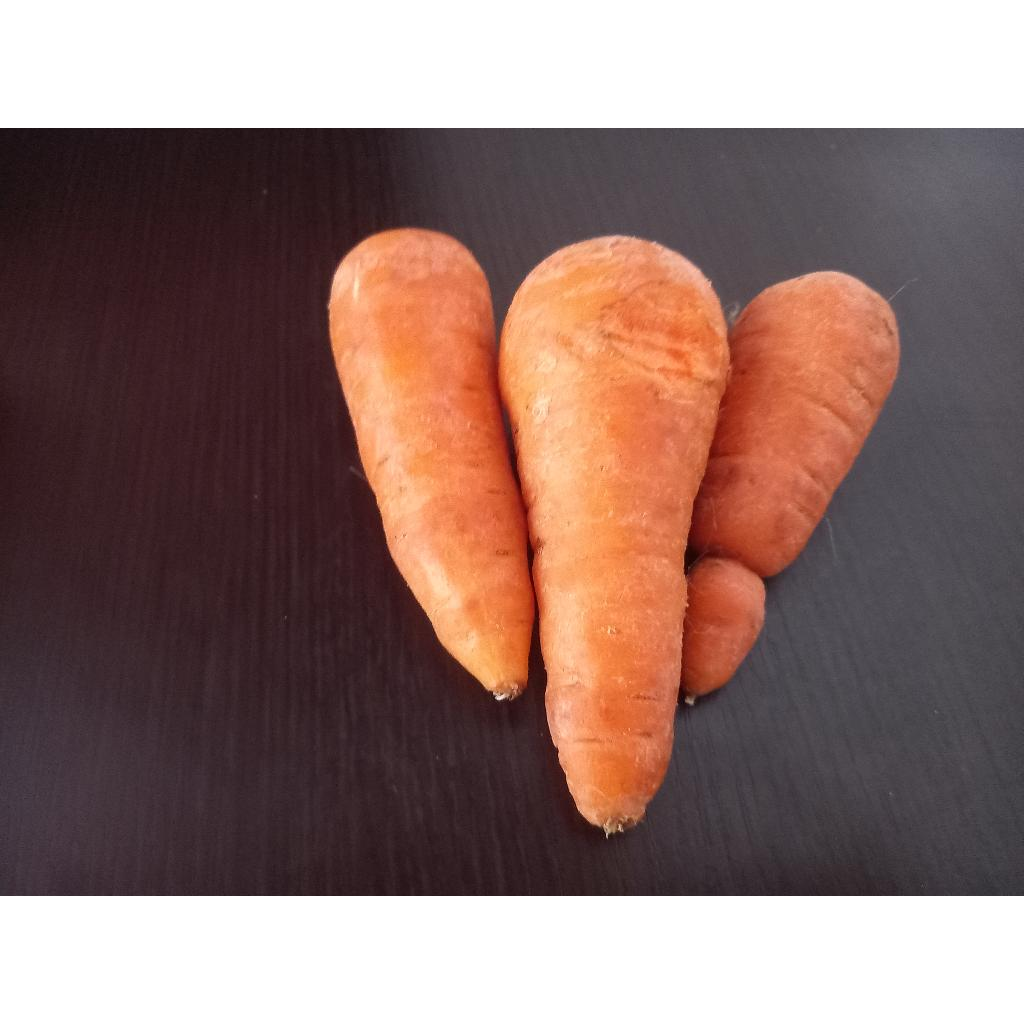carrot: (500, 236, 730, 832), (330, 228, 534, 700), (680, 272, 898, 696)
